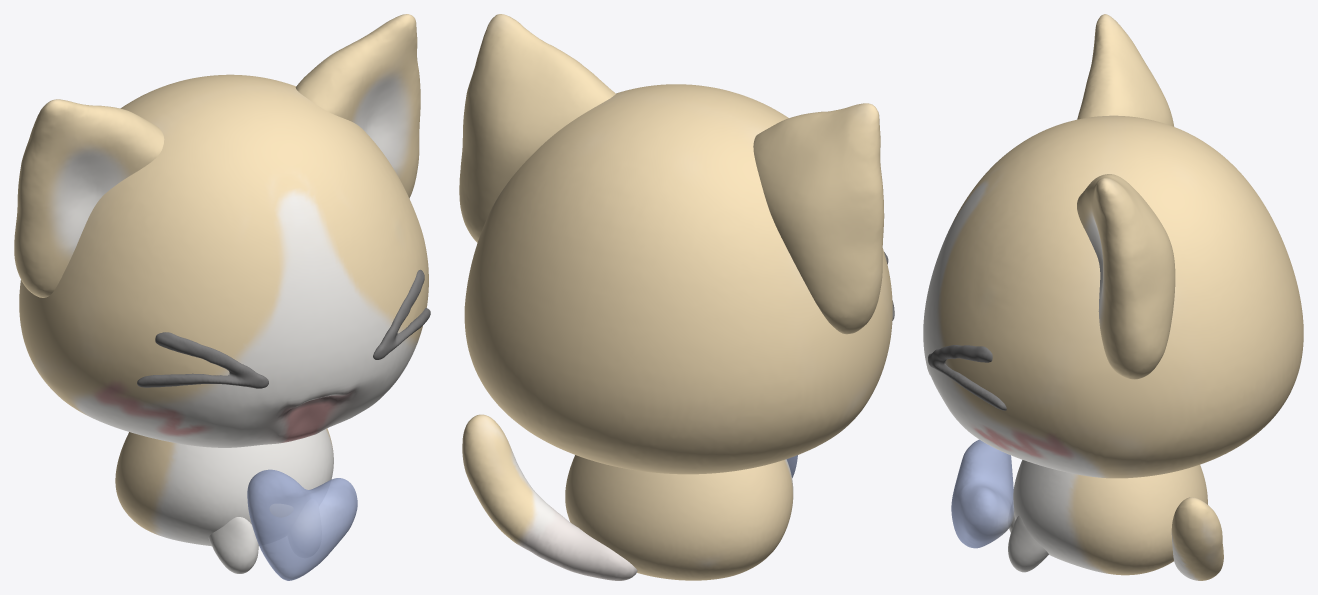
File: cute_cat.glb
3 renders of one model, left to right at view 1: azimuth 30°, elevation 25°; view 2: azimuth 150°, elevation 25°; view 3: azimuth 270°, elevation 25°, orthographic. The views are drawn at different scales.
Visible parts, largest first — view 1: Object_13, Object_15, Object_9, Object_3, Object_11, Object_5; view 2: Object_13, Object_15, Object_9, Object_7; view 3: Object_13, Object_15, Object_9, Object_3, Object_7, Object_11, Object_5.
Part boxes in pixels (bbox=[...]): Object_13: bbox=[19, 74, 428, 447]; Object_15: bbox=[14, 14, 420, 297]; Object_9: bbox=[115, 428, 333, 546]; Object_3: bbox=[247, 469, 357, 580]; Object_11: bbox=[137, 269, 430, 388]; Object_5: bbox=[208, 517, 258, 573]; Object_13: bbox=[464, 84, 892, 474]; Object_15: bbox=[459, 14, 884, 334]; Object_9: bbox=[565, 455, 793, 580]; Object_7: bbox=[462, 414, 637, 580]; Object_13: bbox=[923, 115, 1303, 478]; Object_15: bbox=[1077, 14, 1175, 379]; Object_9: bbox=[1013, 460, 1207, 575]; Object_3: bbox=[951, 439, 1014, 548]; Object_7: bbox=[1171, 497, 1223, 580]; Object_11: bbox=[928, 345, 1006, 410]; Object_5: bbox=[1008, 515, 1048, 572].
Bounding box in the file's own units: 3.95 × 4.52 × 3.4.
